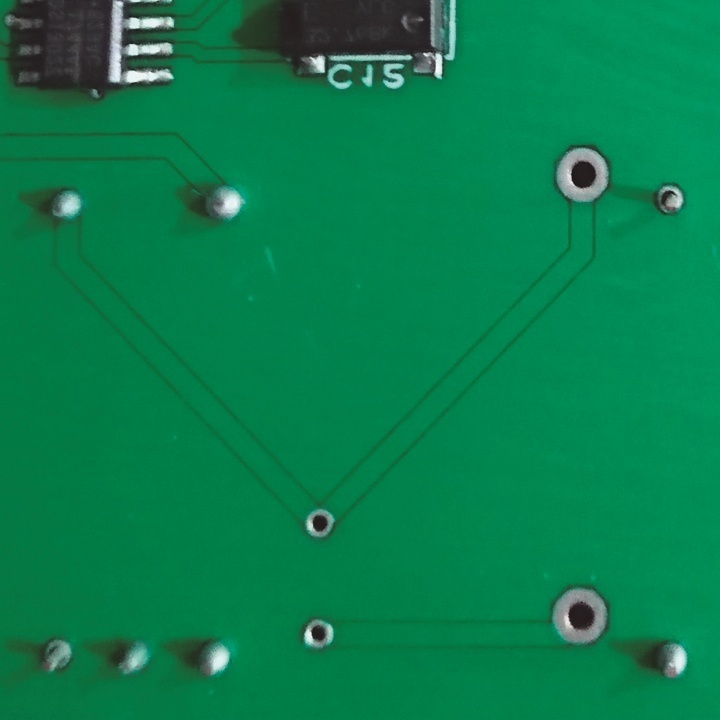F: (540, 583, 611, 651), (547, 141, 616, 203), (38, 636, 76, 676), (300, 616, 336, 658), (651, 180, 686, 223), (303, 506, 333, 543)
